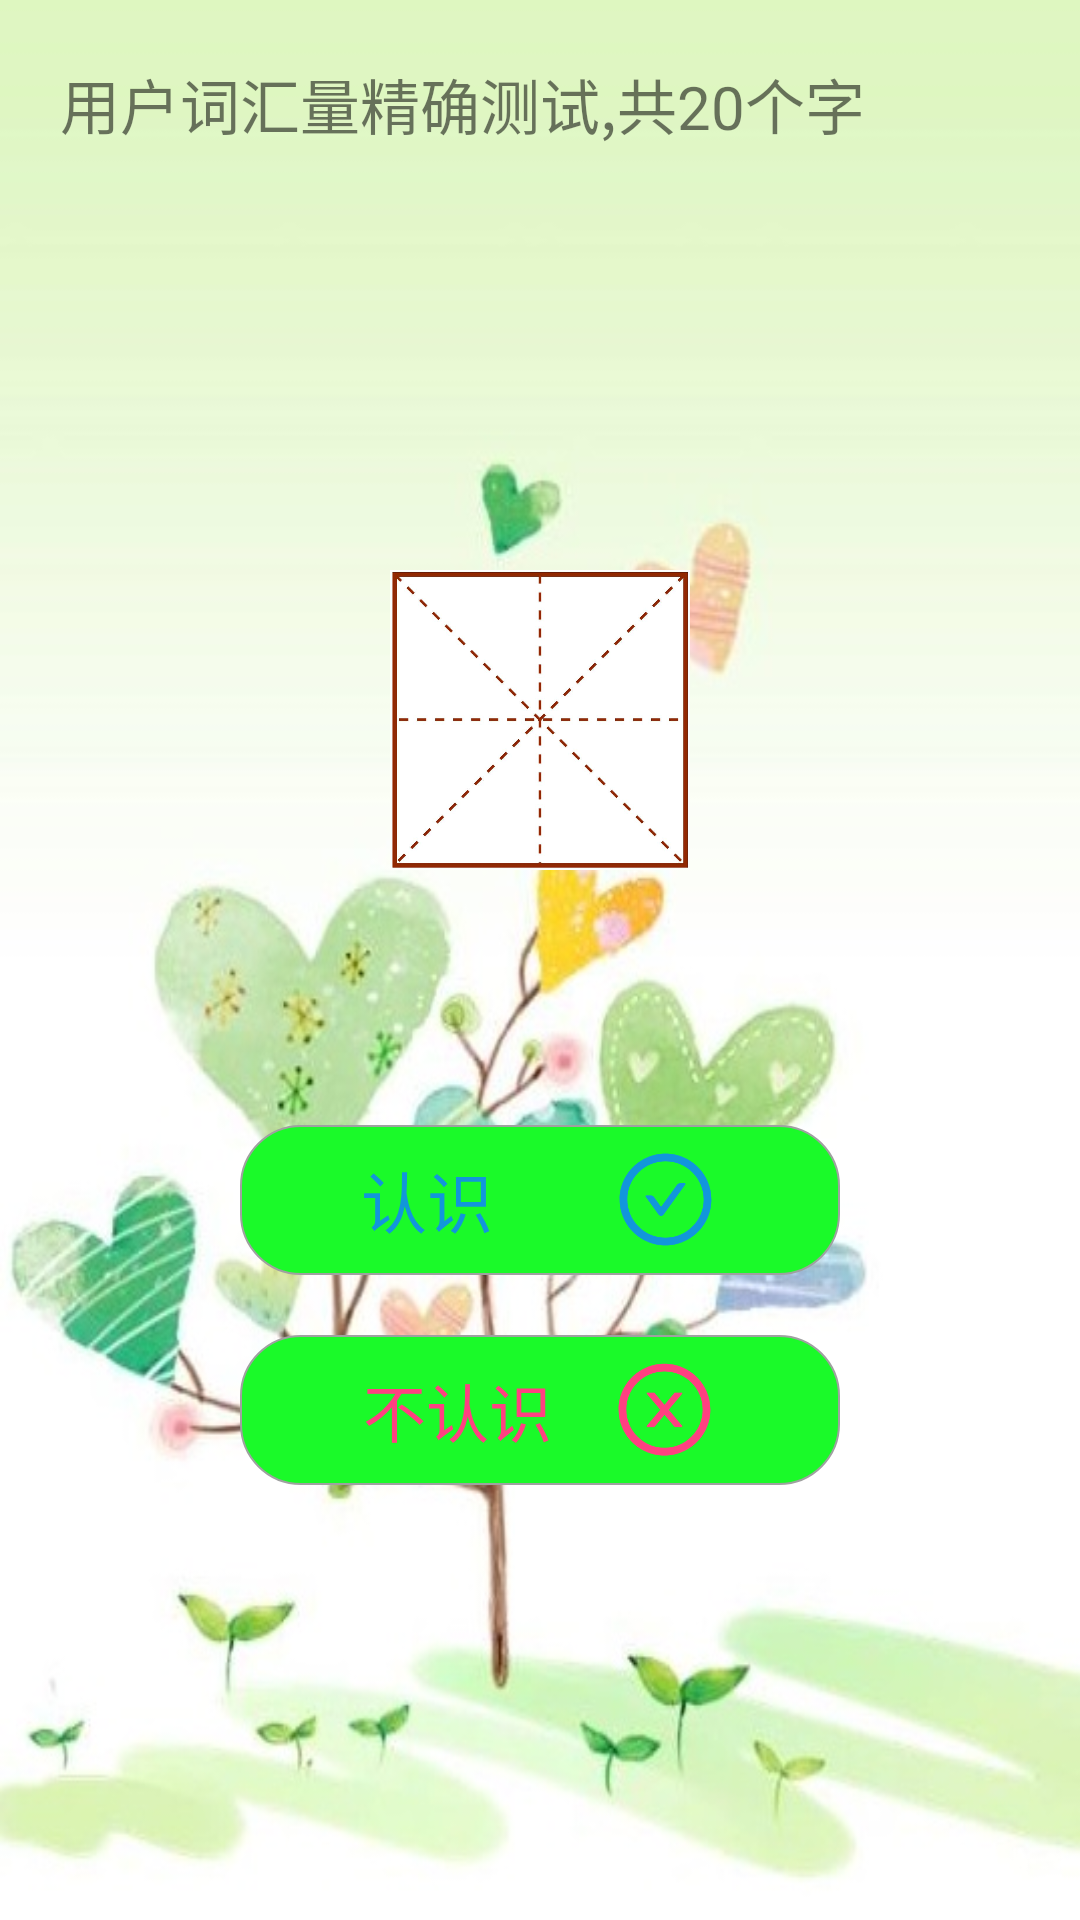

Named icons in this screenshot (1080px x 1920px) and their bounding boxes, [x1, y1, x2, y2]:
check yes: [619, 1153, 712, 1246]
close no: [618, 1363, 711, 1456]
word: [392, 572, 688, 868]
